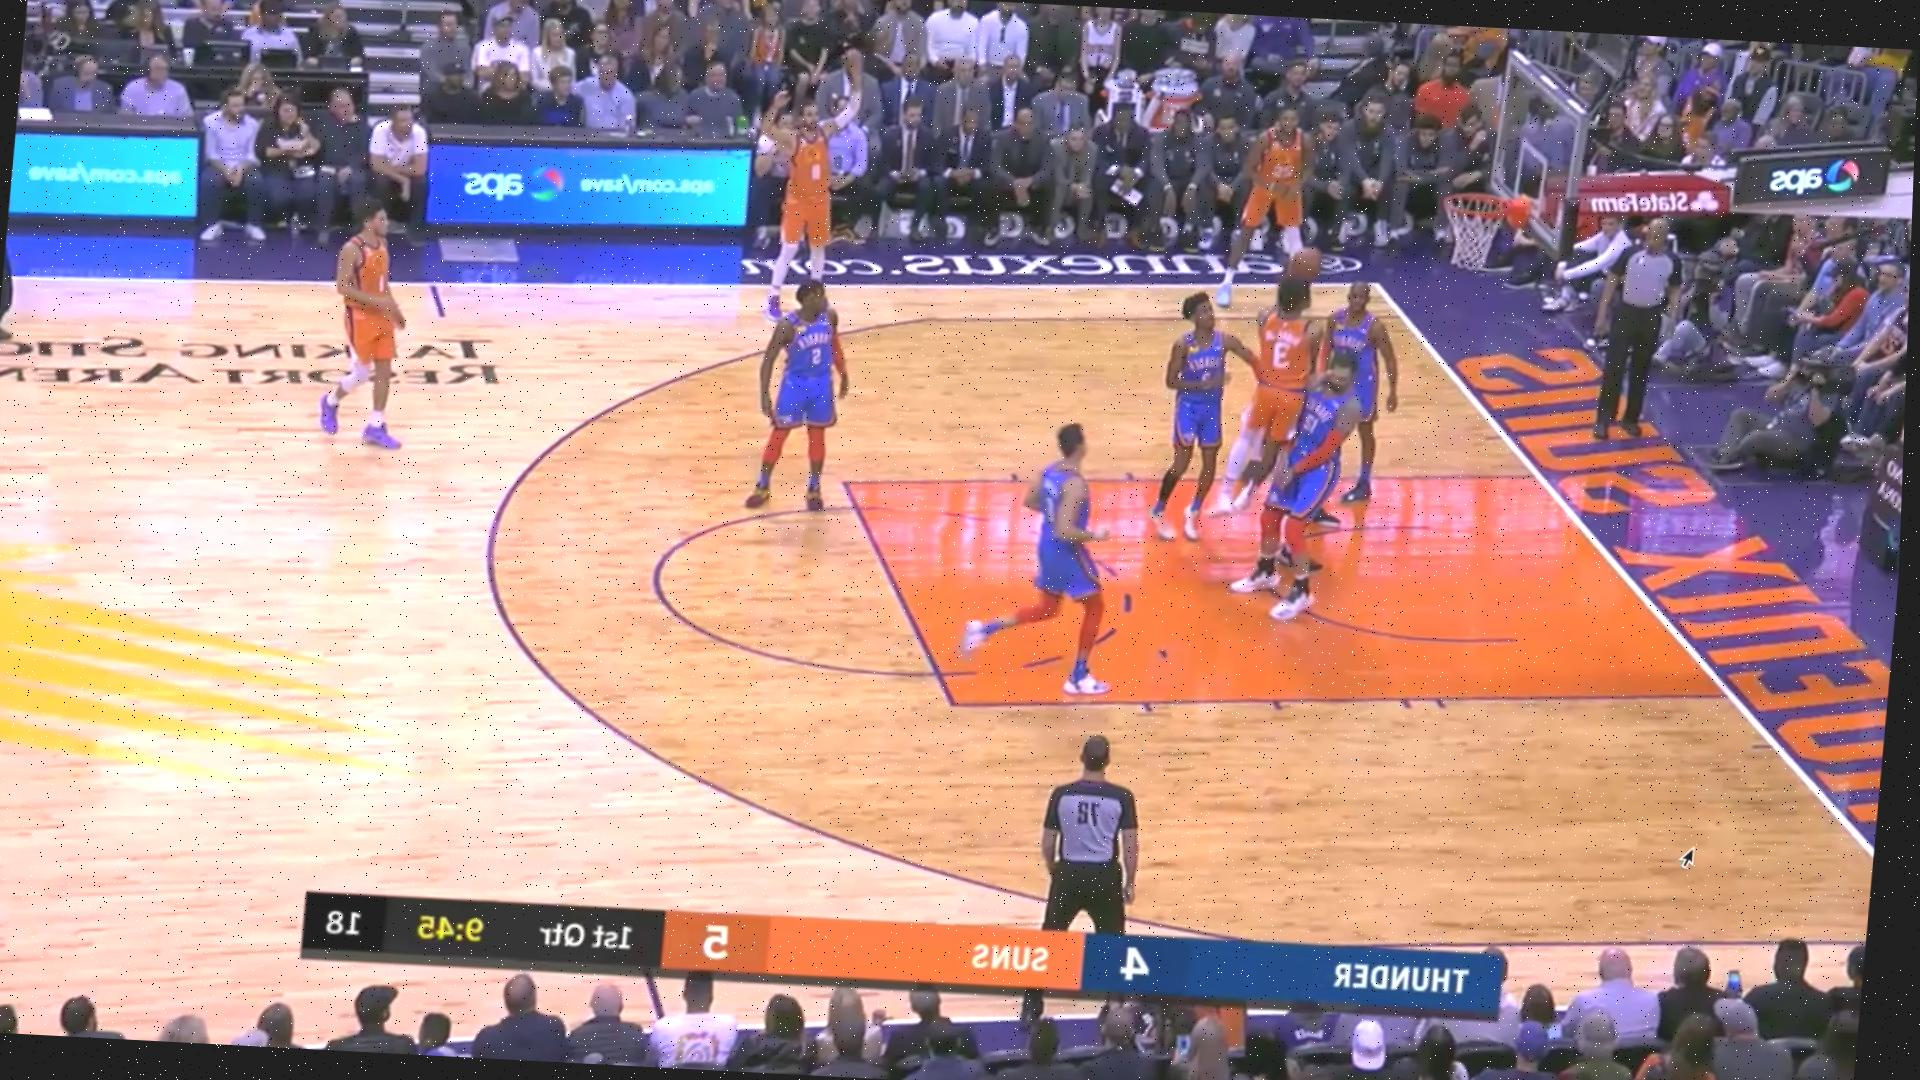foul: (1229, 284, 1369, 578)
